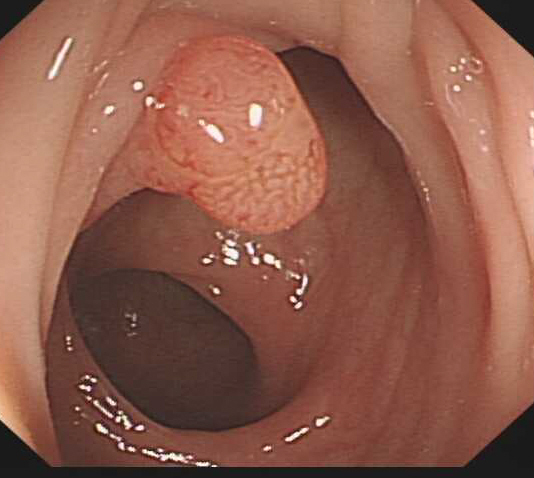adenoma: (147, 34, 329, 238)
